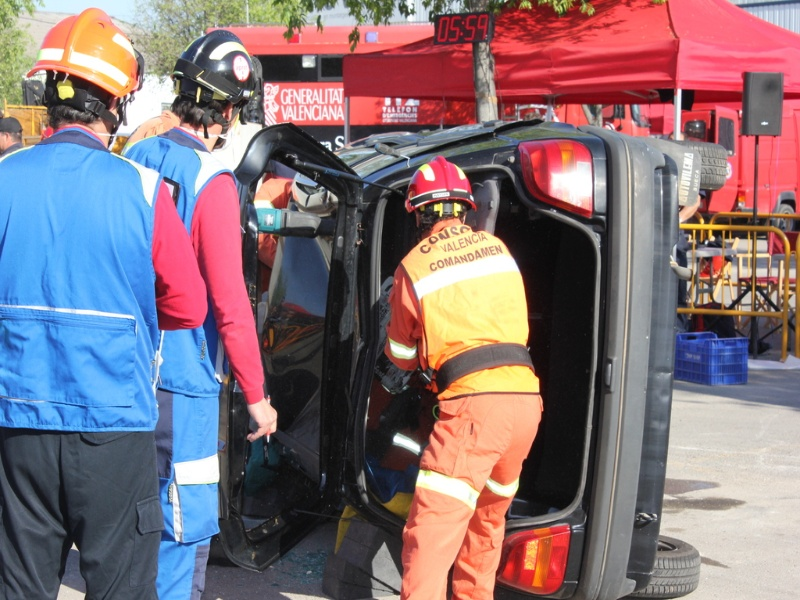helmet: (29, 8, 138, 106), (175, 33, 267, 105), (401, 157, 484, 208)
jacket: (3, 142, 159, 437), (414, 230, 534, 396)
